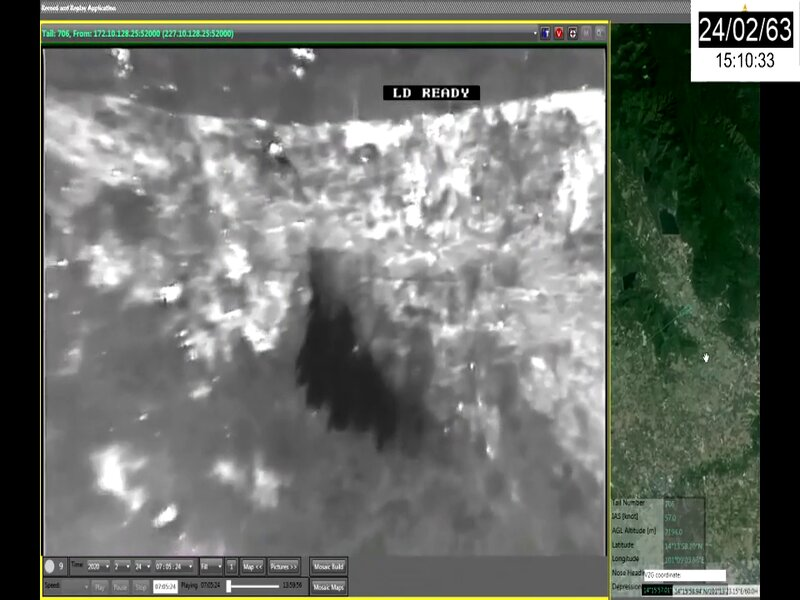Fire: (342, 89, 603, 238)
